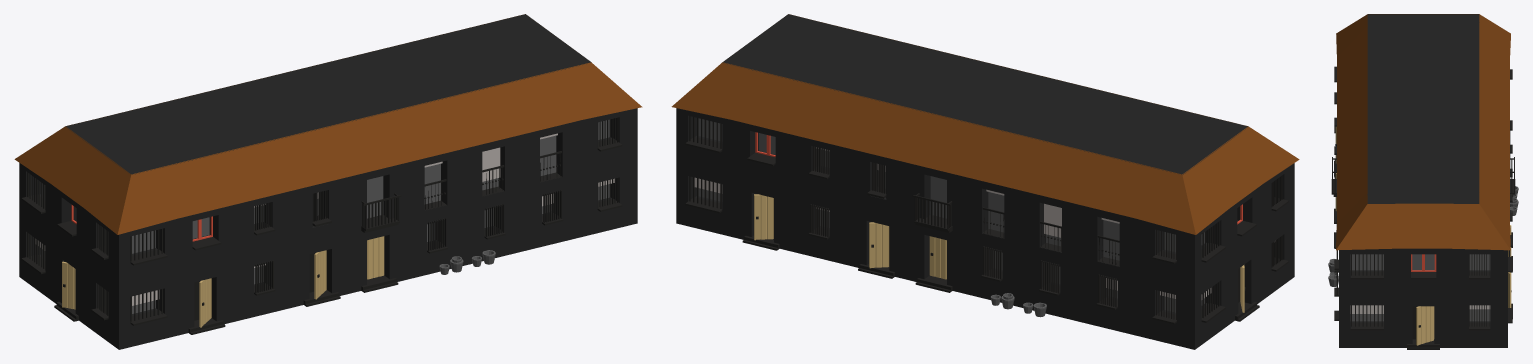
Rendered from CasaProcedural_7.fbx.
3 renders of one model, left to right at view 1: azimuth 30°, elevation 25°; view 2: azimuth 150°, elevation 25°; view 3: azimuth 270°, elevation 25°, orthographic. The views are drawn at different scales.
Parts seen in each view (by area): view 1: Procedural_Building; view 2: Procedural_Building; view 3: Procedural_Building.
Boxes of the visible parts, x1,y1,x2,y2 form: Procedural_Building: [14, 14, 642, 349]; Procedural_Building: [671, 14, 1299, 349]; Procedural_Building: [1328, 14, 1518, 349].
Size of the model in its own units: 918 by 259 by 338.
